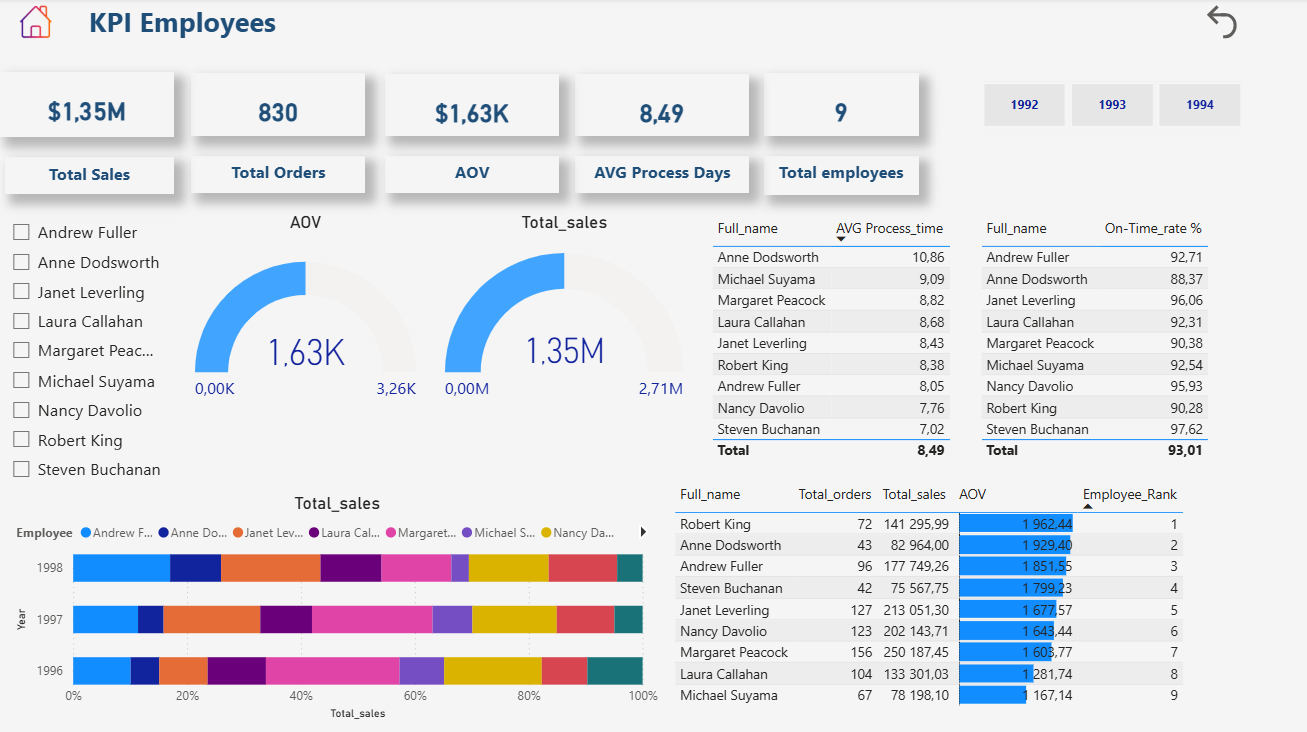

Layout of this report page (visuals, bound fields, positions):
{"tool":"powerbi","page":{"name":"Employees KPI","canvas":[1280,720],"ordinal":3},"visuals":[{"type":"cardVisual","fields":{"Data":["Measure.Total_sales"]},"box":[0,72.4,170.8,64.2],"z":0},{"type":"slicer","fields":{"Values":["employees.hire_date.Variation.Date Hierarchy.Year"]},"box":[934.2,74.6,305.7,59.9],"z":1000},{"type":"cardVisual","fields":{"Data":["Measure.total_employees"]},"box":[747.4,73.8,151.7,61.5],"z":2000},{"type":"textbox","box":[81.7,0,203.4,46.2],"z":3000},{"type":"textbox","box":[5.5,155.8,165.3,36.9],"z":5000},{"type":"textbox","box":[747.4,154.4,151.7,38.3],"z":6000},{"type":"tableEx","fields":{"Values":["employees.Full_name","Measure.Total_orders","Measure.Total_sales","Measure.AOV","Measure.Employee_Rank"]},"box":[654.8,469.9,540.8,249.6],"z":7000},{"type":"tableEx","fields":{"Values":["employees.Full_name","Measure.AVG Process_time"]},"box":[690.9,209.1,262.9,251.9],"z":8000},{"type":"cardVisual","fields":{"Data":["Measure.Total_orders"]},"box":[187.2,73.8,170.8,61.5],"z":9000},{"type":"textbox","box":[187.2,154.4,170.8,36.9],"z":10000},{"type":"cardVisual","fields":{"Data":["Measure.AOV"]},"box":[377.1,75.1,170.8,60.1],"z":11000},{"type":"textbox","box":[377.1,154.4,170.8,36.9],"z":12000},{"type":"cardVisual","fields":{"Data":["Measure.AVG Process_time"]},"box":[562.9,75.1,170.8,60.1],"z":13000},{"type":"textbox","box":[562.9,154.4,170.8,36.9],"z":14000},{"type":"gauge","fields":{"Y":["Measure.AOV"]},"box":[185.9,209.1,226.2,218.9],"z":15000},{"type":"slicer","fields":{"Values":["employees.Full_name"]},"box":[0,209.1,163.9,273.9],"z":16000},{"type":"gauge","fields":{"Y":["Measure.Total_sales"]},"box":[430.4,209.1,243.3,210.3],"z":17000},{"type":"hundredPercentStackedBarChart","title":"Total_sales ","fields":{"Category":["orders.order_date.Variation.Date Hierarchy.Year"],"Series":["employees.Full_name"],"Y":["Measure.Total_sales"]},"box":[10.8,483.8,637.8,226.5],"z":18000},{"type":"tableEx","fields":{"Values":["employees.Full_name","Measure.On-Time_rate"]},"box":[953.8,209.1,262.9,251.9],"z":18001},{"type":"actionButton","box":[1174,0,43.1,46.2],"z":18002},{"type":"image","box":[10.8,0,47.8,46.2],"z":18003}]}

Visuals, with their boxes in screenshot pixels (x1, y1, x2, y2), scaled from the page's 1280x720 canvas onto the 1307x732 screenshot:
cardVisual - Measure.Total_sales: detection(0, 74, 174, 139)
slicer - employees.hire_date.Variation.Date Hierarchy.Year: detection(954, 76, 1266, 137)
cardVisual - Measure.total_employees: detection(763, 75, 918, 138)
textbox: detection(83, 0, 291, 47)
textbox: detection(6, 158, 174, 196)
textbox: detection(763, 157, 918, 196)
tableEx - employees.Full_name x Measure.Total_orders: detection(669, 478, 1221, 731)
tableEx - employees.Full_name x Measure.AVG Process_time: detection(705, 213, 974, 469)
cardVisual - Measure.Total_orders: detection(191, 75, 366, 138)
textbox: detection(191, 157, 366, 194)
cardVisual - Measure.AOV: detection(385, 76, 559, 137)
textbox: detection(385, 157, 559, 194)
cardVisual - Measure.AVG Process_time: detection(575, 76, 749, 137)
textbox: detection(575, 157, 749, 194)
gauge - Measure.AOV: detection(190, 213, 421, 435)
slicer - employees.Full_name: detection(0, 213, 167, 491)
gauge - Measure.Total_sales: detection(439, 213, 688, 426)
"Total_sales " hundredPercentStackedBarChart: detection(11, 492, 662, 722)
tableEx - employees.Full_name x Measure.On-Time_rate: detection(974, 213, 1242, 469)
actionButton: detection(1199, 0, 1243, 47)
image: detection(11, 0, 60, 47)
